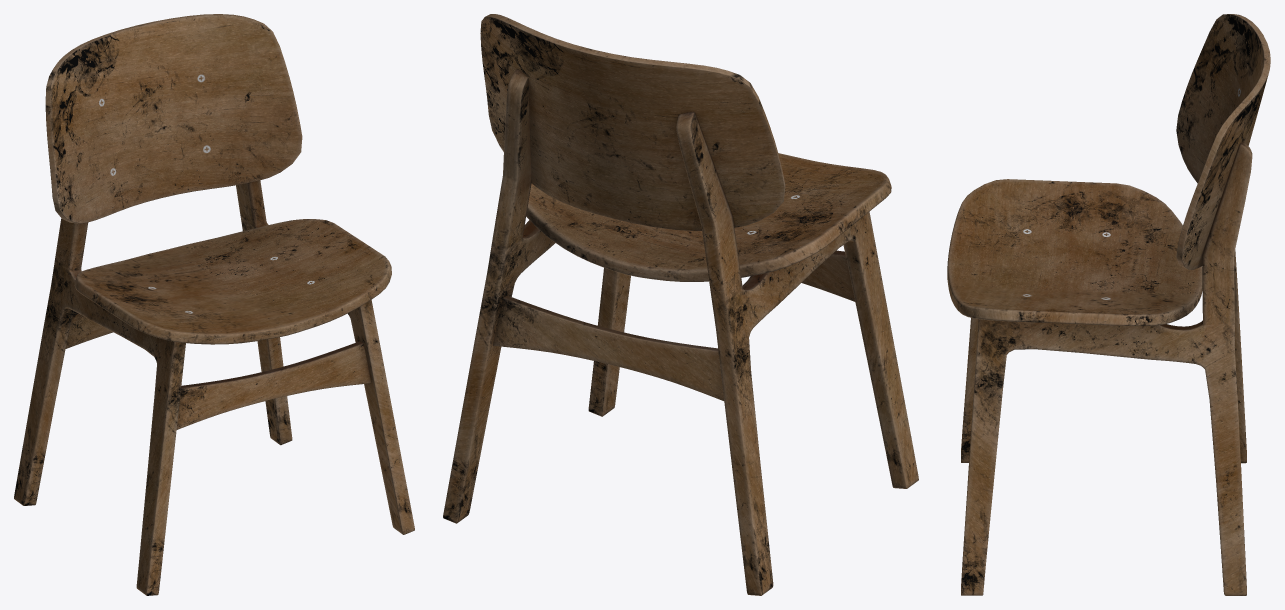
Rendered from old_chair.glb.
3 views of the same model, side by side, from view 1: azimuth 30°, elevation 25°; view 2: azimuth 150°, elevation 25°; view 3: azimuth 270°, elevation 25° (orthographic). The views are drawn at different scales.
Parts seen in each view (by area): view 1: Plane005, Plane004, Object001_chair_0, Box001, Box003; view 2: Object001_chair_0, Plane005, Plane004, Box003, Box001; view 3: Plane004, Object001_chair_0, Plane005.
Part boxes in pixels (box(x1,y1,x2,y2)): Plane005: box(45, 14, 302, 223); Plane004: box(74, 219, 391, 344); Object001_chair_0: box(14, 180, 414, 595); Box001: box(176, 341, 371, 429); Box003: box(65, 311, 113, 348); Object001_chair_0: box(443, 69, 918, 595); Plane005: box(480, 14, 785, 231); Plane004: box(526, 153, 891, 281); Box003: box(493, 295, 724, 400); Box001: box(801, 250, 855, 301); Plane004: box(947, 179, 1202, 325); Object001_chair_0: box(961, 142, 1252, 595); Plane005: box(1176, 14, 1270, 269).
Bounding box in the file's own units: 16.23 × 25.2 × 15.76.
Materials: 1 (1 with a texture image).
